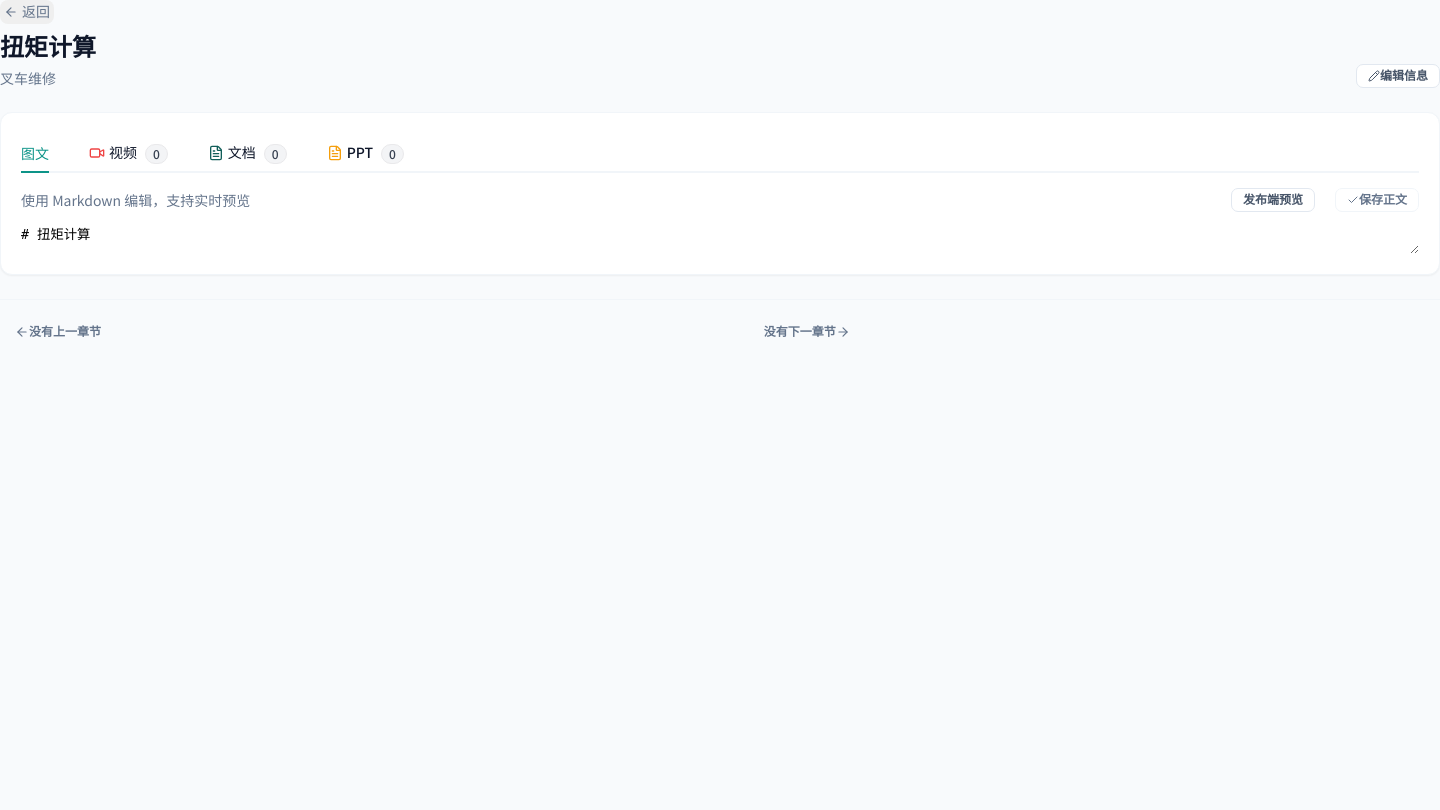
Test: TutorChapterEdit 发布端预览（#903） › 预览不写回表单：关闭预览后编辑内容与保存按钮状态不变
Click the button "发布端预览".
click(1273, 200)  # box x1=1231 y1=188 x2=1315 y2=212
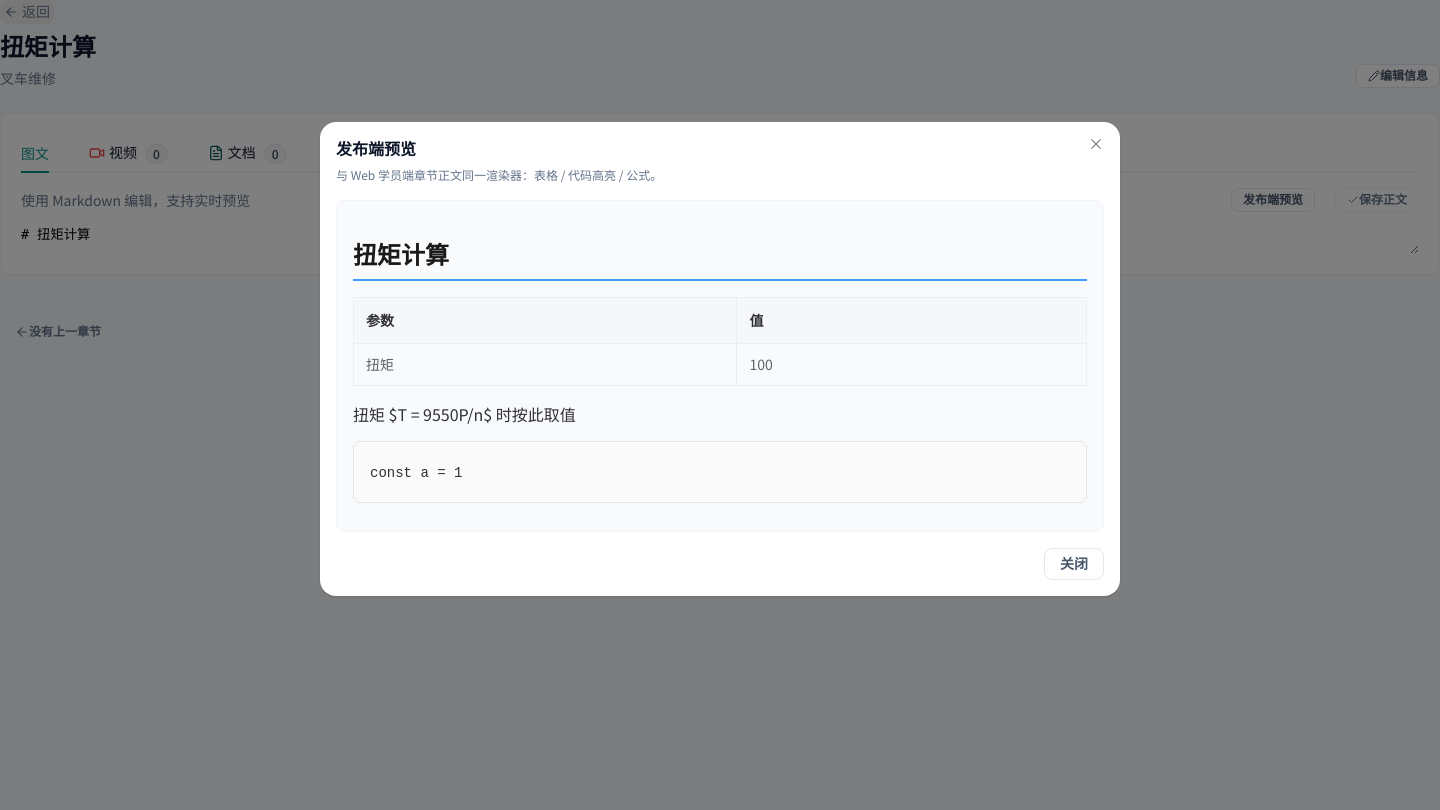
Expected: the button "保存正文" is disabled, x1=1335 y1=188 x2=1419 y2=212
Result: the element that starts with "发布端预览" is shown at x1=320 y1=122 x2=1120 y2=596
